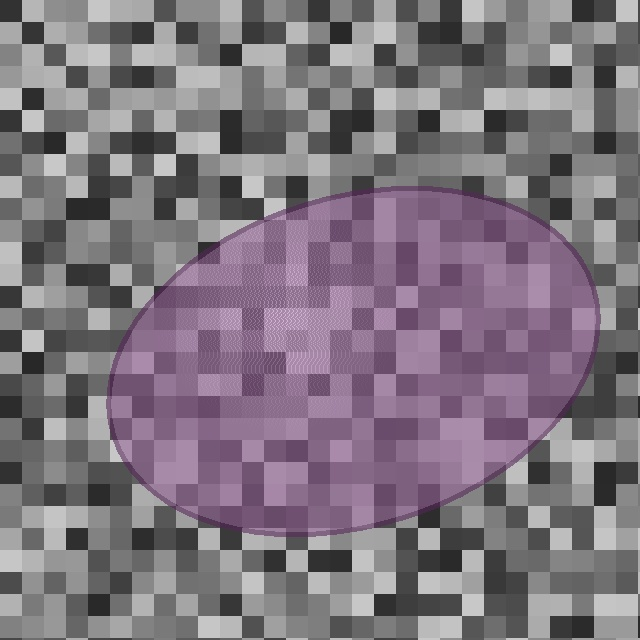lens: (109, 188, 597, 534)
